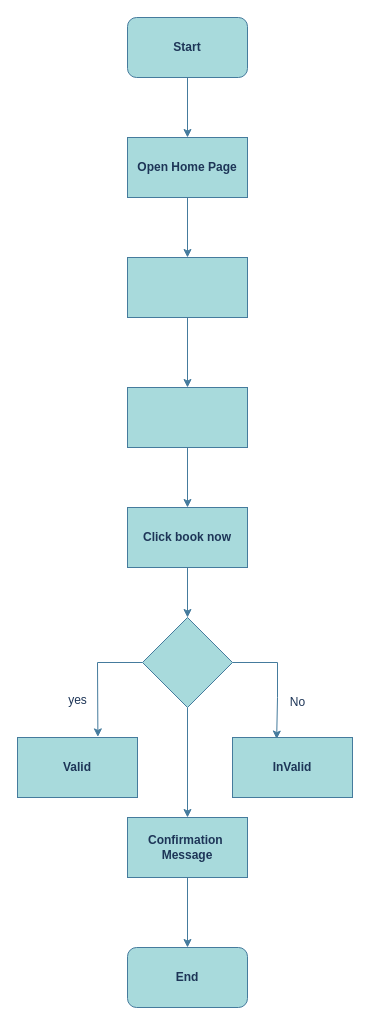
Some shapes in this 370 by 1025 pixel diagram are drawn without their labels. The shapes that lost their labels are listed below. From the top down, each one's centre as x and y in pixels, then its label:
(187,287): View Booking Form
(187,417): Fill the form
(187,662): Validate?
